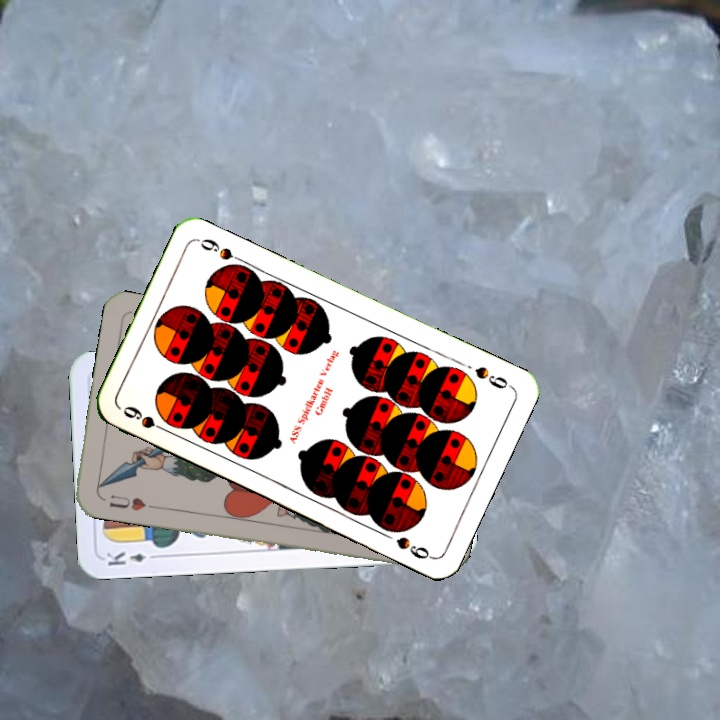EK: (102, 548, 161, 569)
HU: (105, 490, 148, 514)
S9: (118, 401, 173, 436), (471, 362, 515, 392)
